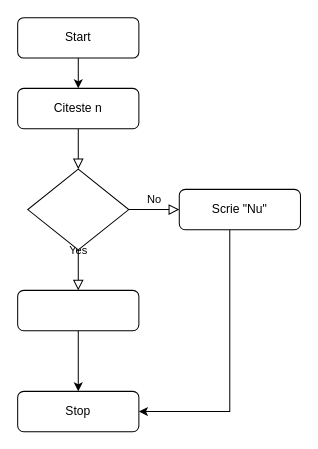
This 318x449 diagram has some shape labels left out. Here are the shapes that lost their labels. From the top down, the centre of each, then its label:
pixel 78 209: n % 2 == 0
pixel 78 310: Scrie "Da"
